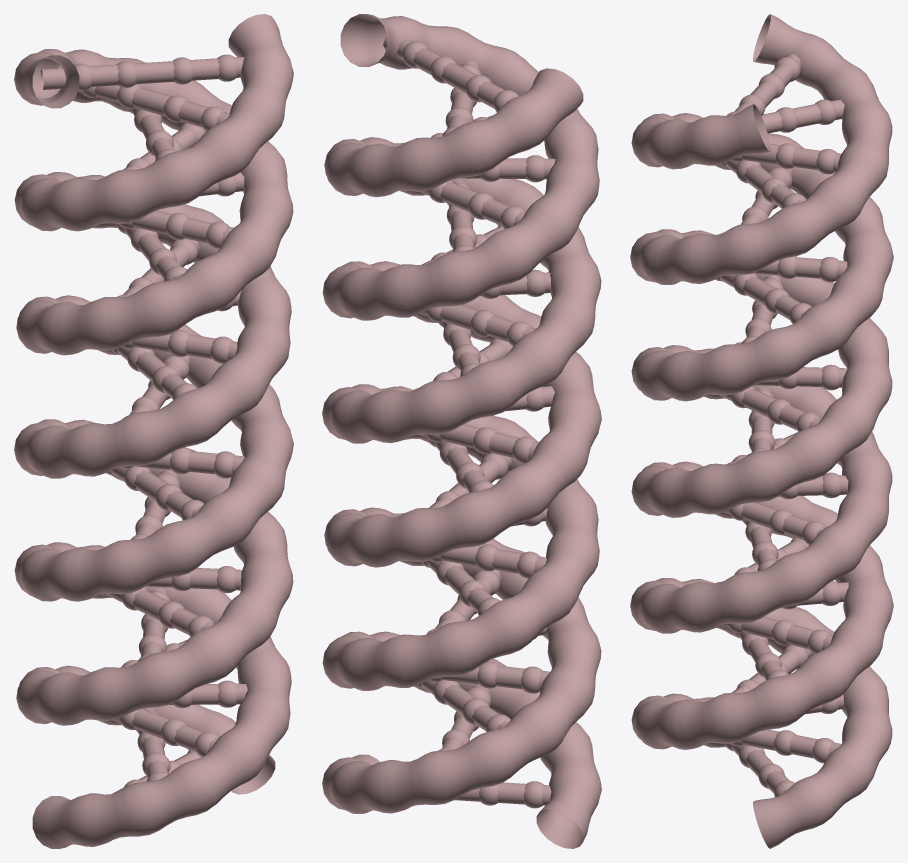
File: reference-dna.glb
3 renders of one model, left to right at view 1: azimuth 30°, elevation 25°; view 2: azimuth 150°, elevation 25°; view 3: azimuth 270°, elevation 25°, orthographic. The views are drawn at different scales.
Parts seen in each view (by area): view 1: Double helix backbone; view 2: Double helix backbone; view 3: Double helix backbone.
Part boxes in pixels (box(x1,y1,x2,y2)): Double helix backbone: box(14, 14, 293, 848); Double helix backbone: box(322, 14, 601, 848); Double helix backbone: box(630, 14, 893, 848).
Bounding box in the file's own units: 0.8916 × 2.76 × 0.8916.
